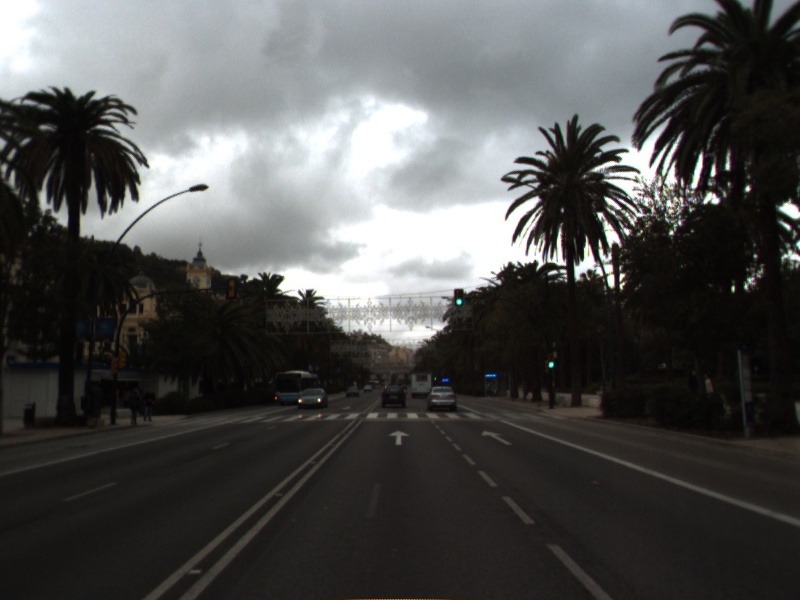STRAIGHT: (479, 428, 515, 447), (386, 428, 412, 447)
